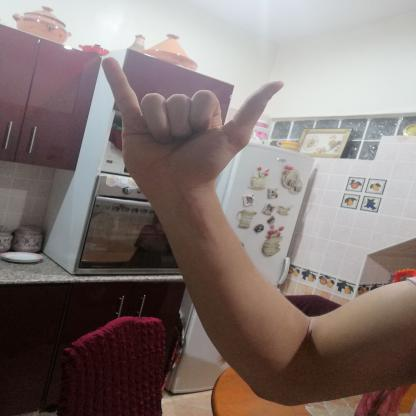YA: (84, 46, 306, 201)
